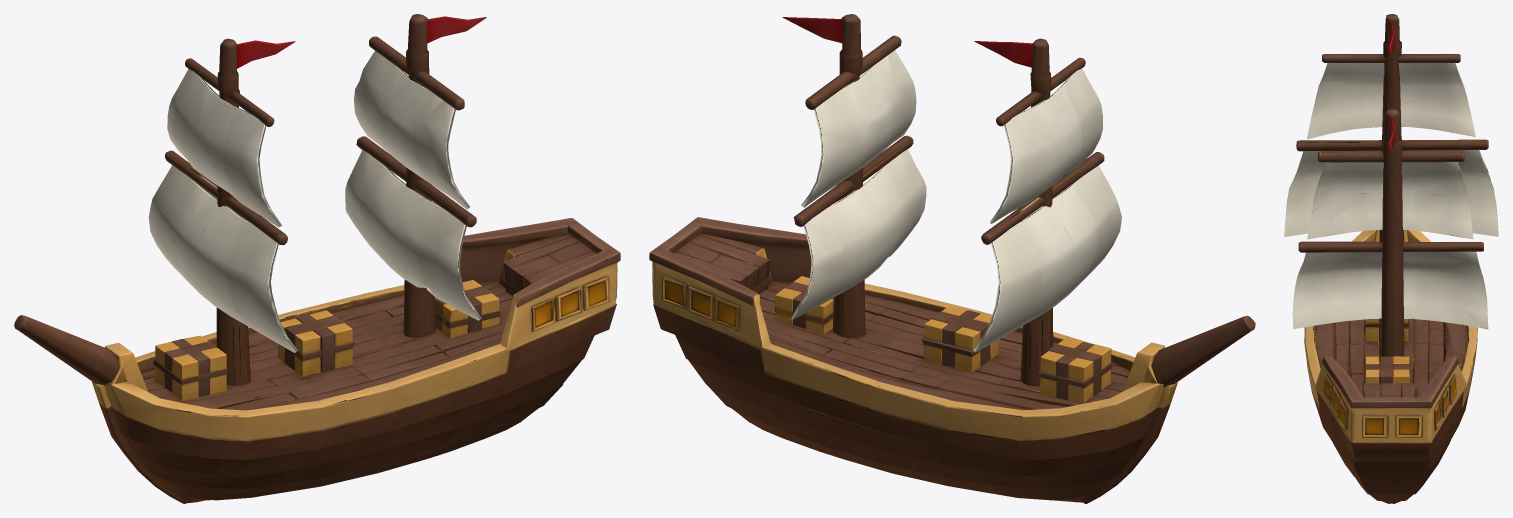
The model's file is merchantman.glb.
The picture shows the model from 3 angles, left to right: view 1: azimuth 30°, elevation 25°; view 2: azimuth 150°, elevation 25°; view 3: azimuth 270°, elevation 25°; orthographic projection. The views are drawn at different scales.
Visible parts, largest first — view 1: geometry_0; view 2: geometry_0; view 3: geometry_0.
Part boxes in pixels (left/top/right/bottom): geometry_0: left=14, top=14, right=620, bottom=503; geometry_0: left=649, top=14, right=1255, bottom=503; geometry_0: left=1284, top=14, right=1498, bottom=503.
Bounding box in the file's own units: 0.958 × 0.7129 × 0.3677.
1 material, 1 textured.
